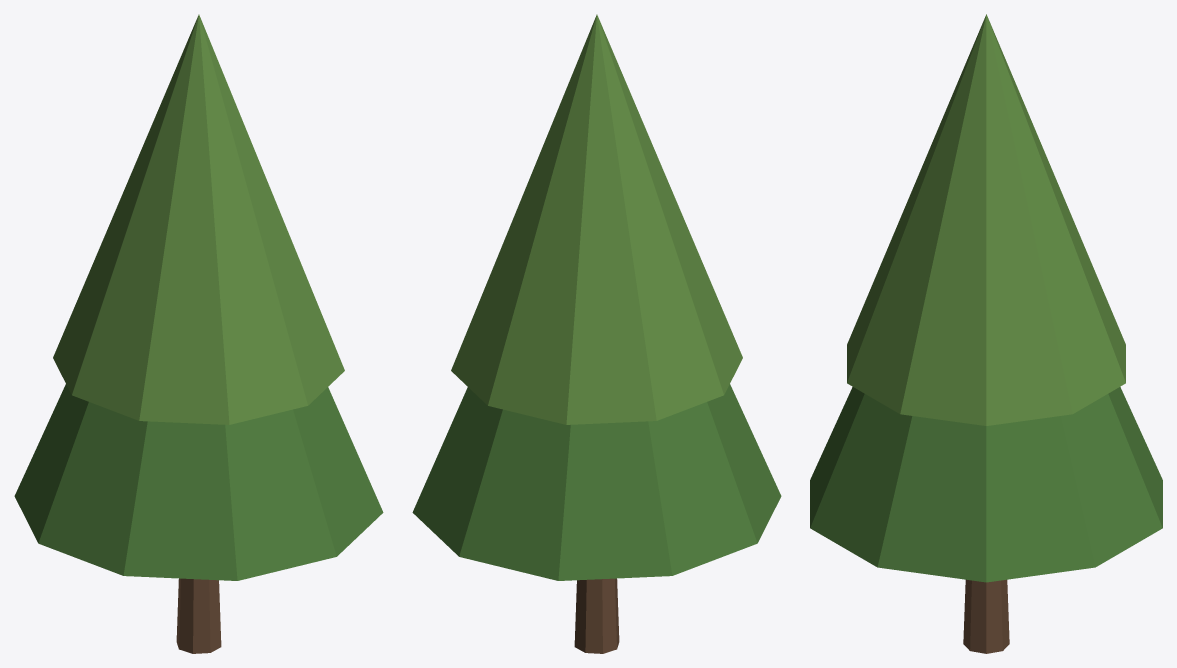
File: tree.gltf
3 renders of one model, left to right at view 1: azimuth 30°, elevation 25°; view 2: azimuth 150°, elevation 25°; view 3: azimuth 270°, elevation 25°, orthographic.
Bounding box in the file's own units: 4.8 × 9 × 4.57.
